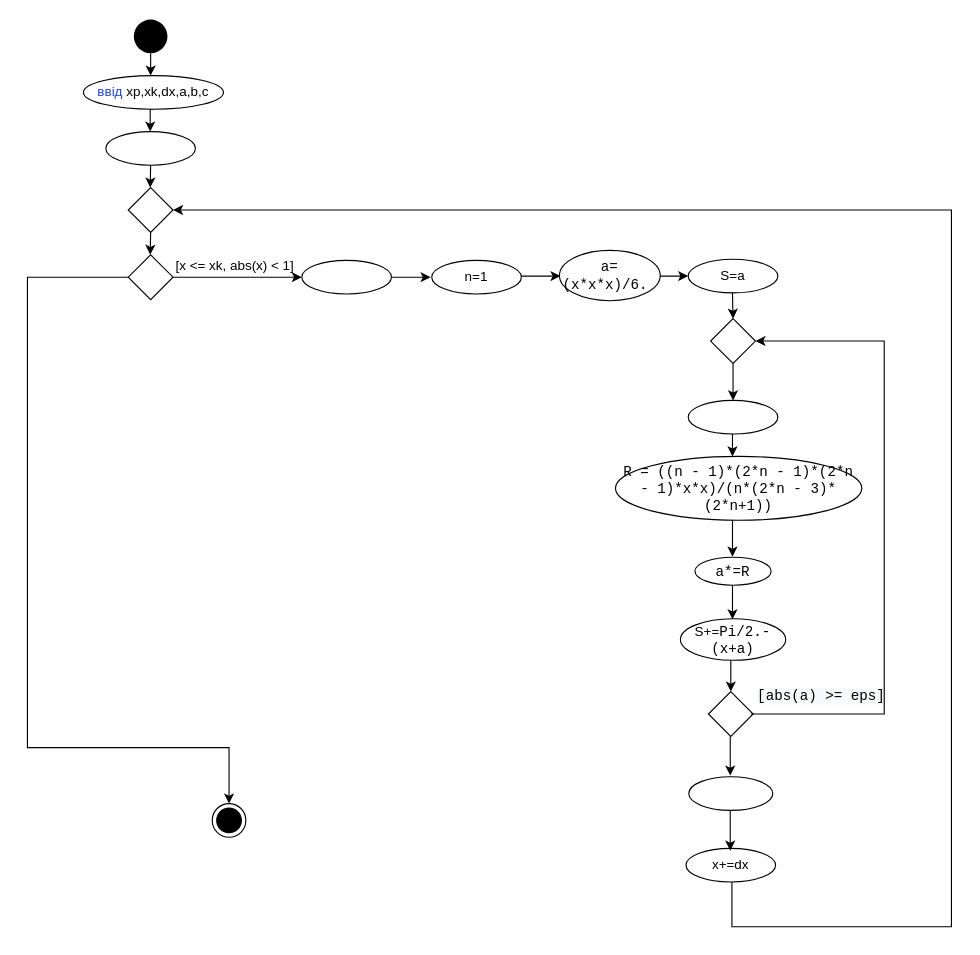
Some shapes in this 980 by 955 pixel diagram are drawn without their labels. Each missing label, with the centre of its shape:
"n++" goes at pixel 732 416.
"S=0" goes at pixel 346 276.
"x = xp" goes at pixel 150 147.
"вивід S" goes at pixel 730 793.
